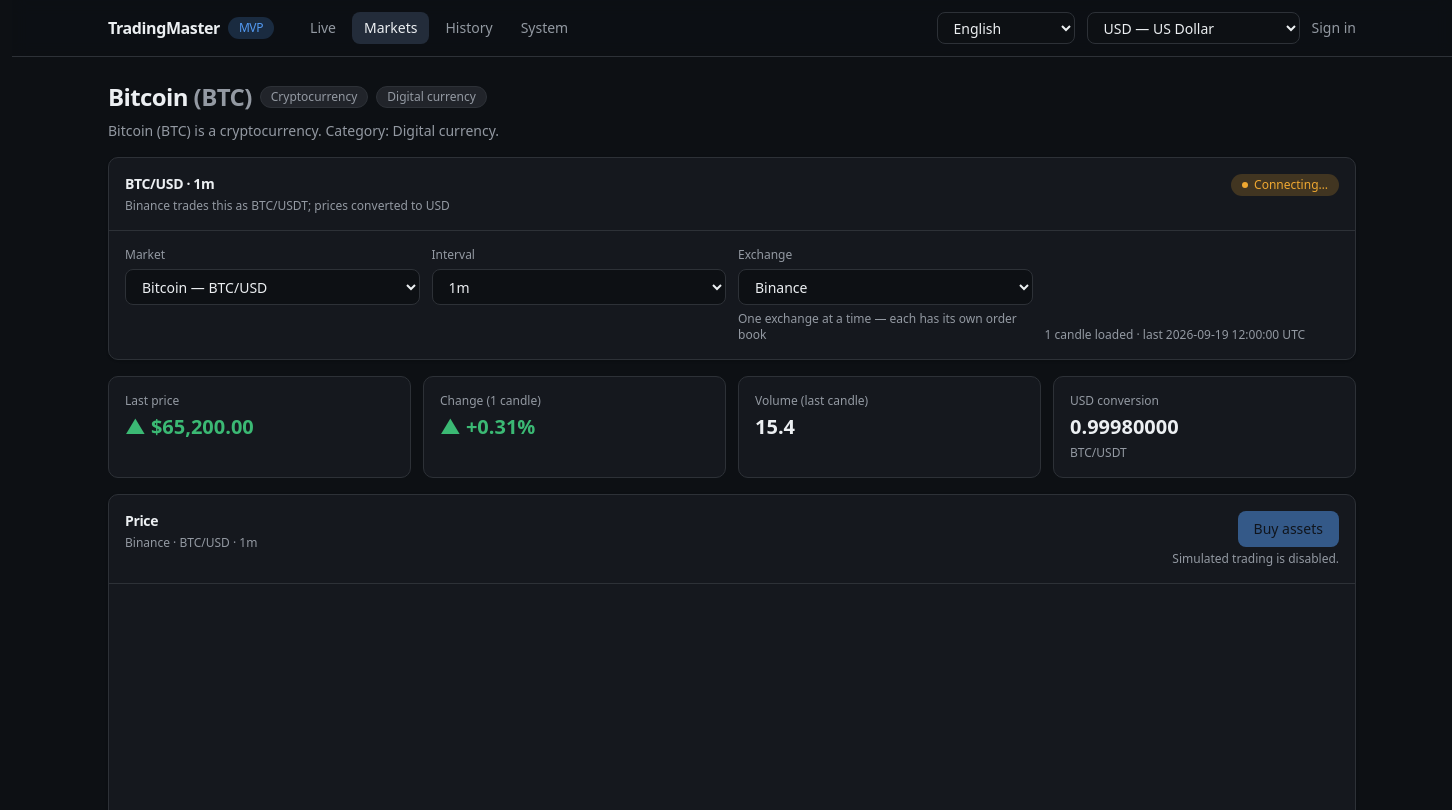
Test case: market pages › move to the chosen market's own URL
This screenshot has width=1452, height=810.
Select "ORLEN S.A. — PKN.WA/USD" in the dropdown labelled "Market" at [272, 287], box 125,269 -> 420,305
(page scrolled)
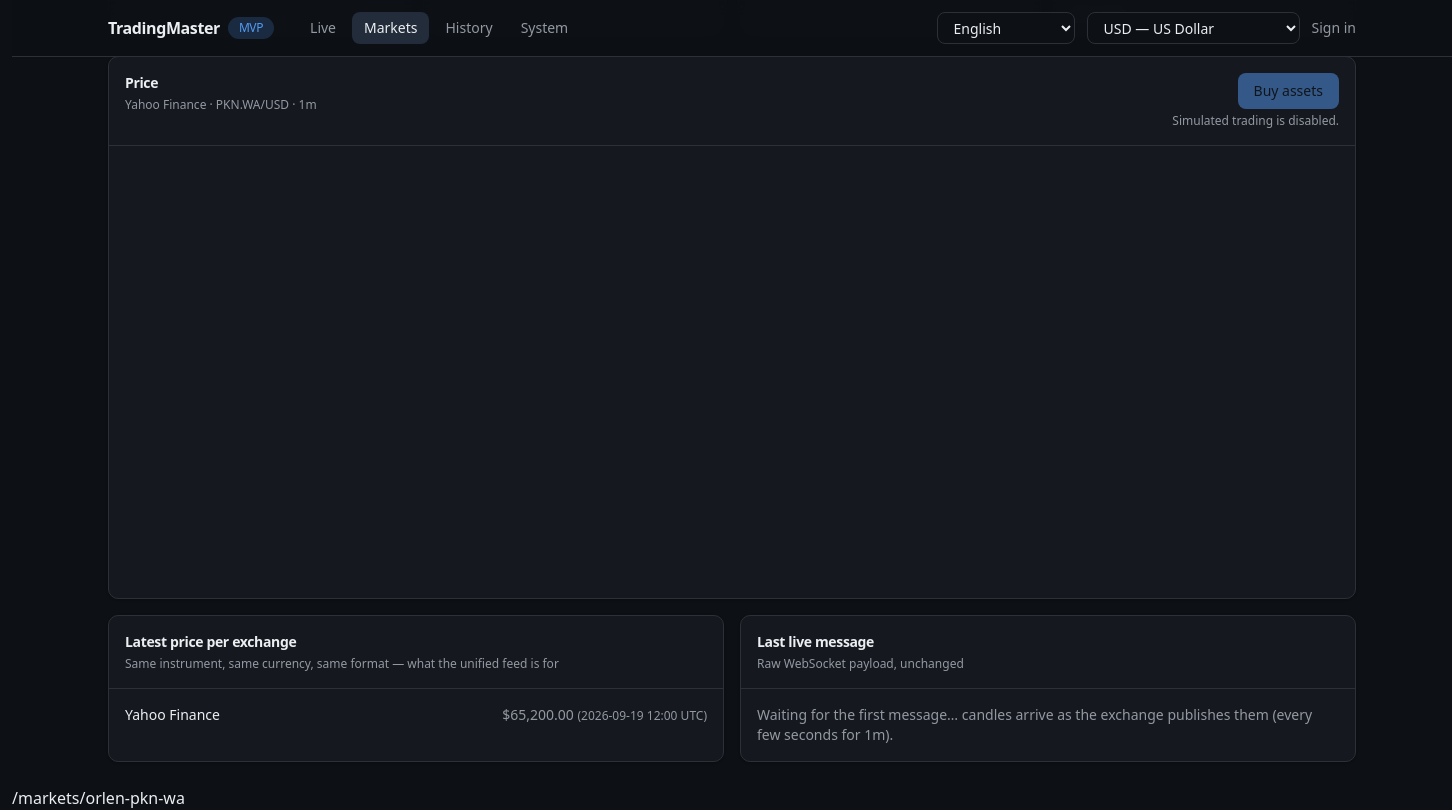
Expected: the text with test id "location" reads "/markets/orlen-pkn-wa", 12,787 -> 185,809
